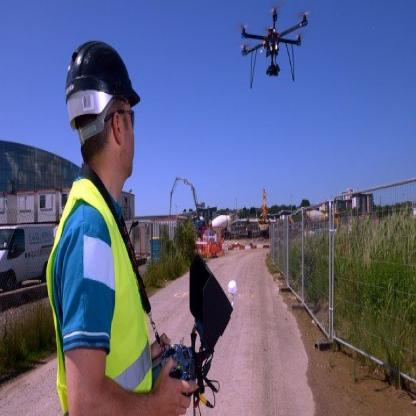drone: (226, 7, 323, 89)
